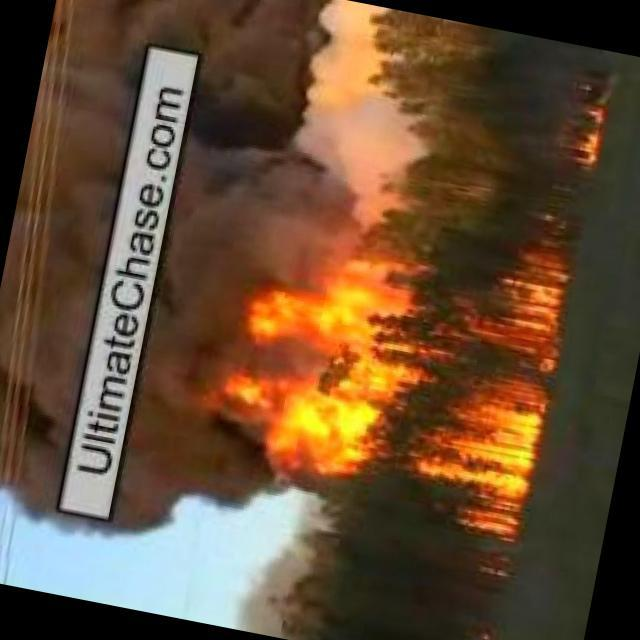Fire: (191, 191, 575, 546), (555, 82, 611, 182)
